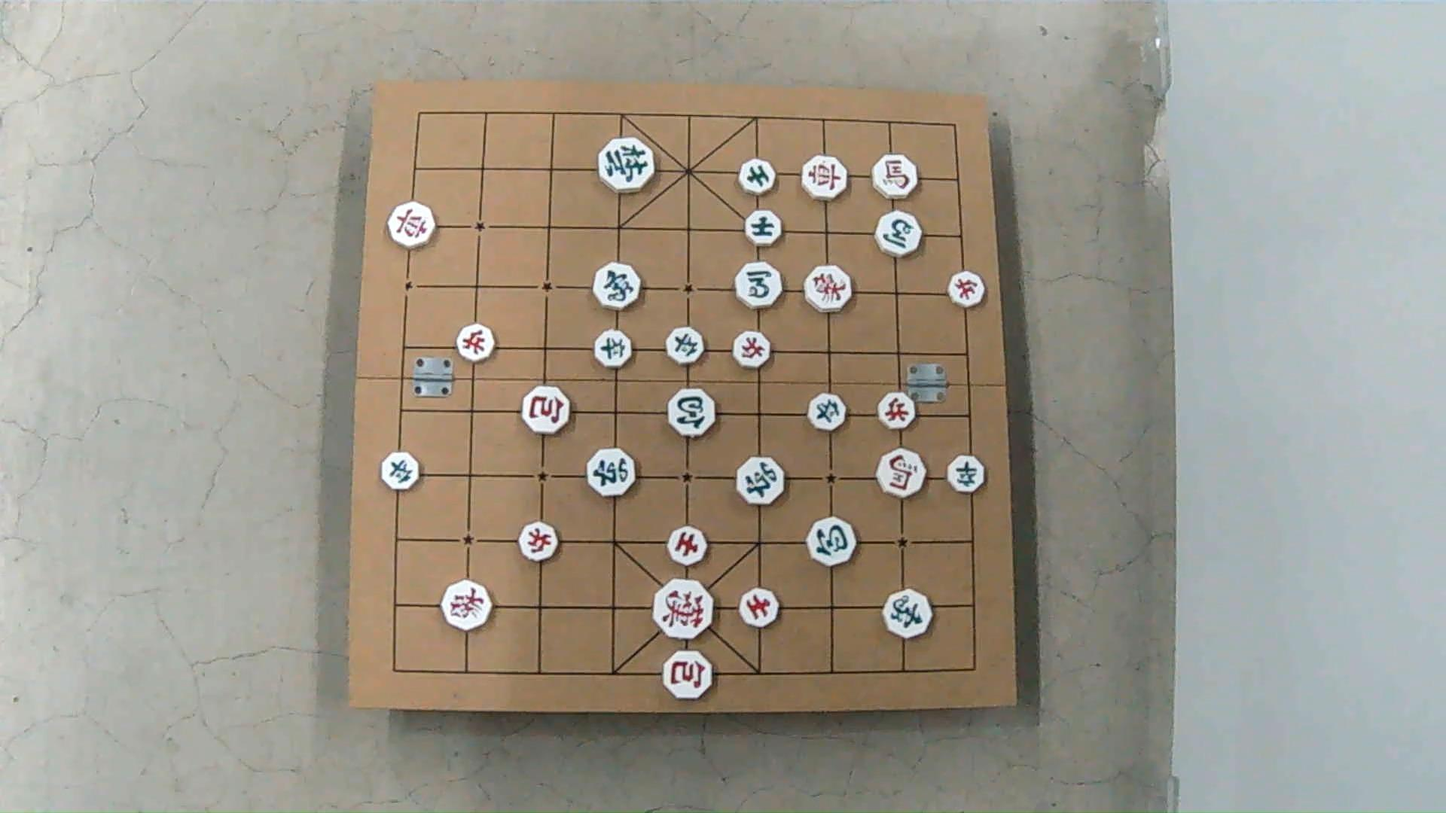cha_green: (738, 458, 787, 507), (587, 448, 636, 497)
cha_red: (389, 204, 434, 250), (799, 156, 845, 200)
jol_green: (383, 453, 422, 491), (596, 331, 634, 369), (808, 394, 847, 431), (669, 329, 706, 367), (947, 455, 984, 493)
jol_red: (517, 521, 557, 561), (456, 325, 494, 364), (734, 333, 772, 370), (879, 391, 915, 428), (950, 270, 985, 306)
ma_green: (735, 262, 782, 309), (875, 212, 920, 257)
ma_red: (877, 448, 926, 498), (871, 156, 916, 200)
po_green: (808, 516, 856, 566), (670, 388, 717, 437)
po_red: (523, 386, 572, 436), (666, 650, 715, 698)
sa_green: (740, 160, 777, 196), (744, 211, 781, 246)
sa_red: (667, 528, 706, 567), (741, 589, 779, 628)
sang_green: (883, 590, 930, 638), (595, 262, 643, 309)
sang_red: (439, 580, 492, 631), (804, 266, 850, 312)
wang_green: (599, 140, 655, 194)
wang_red: (651, 580, 712, 640)
